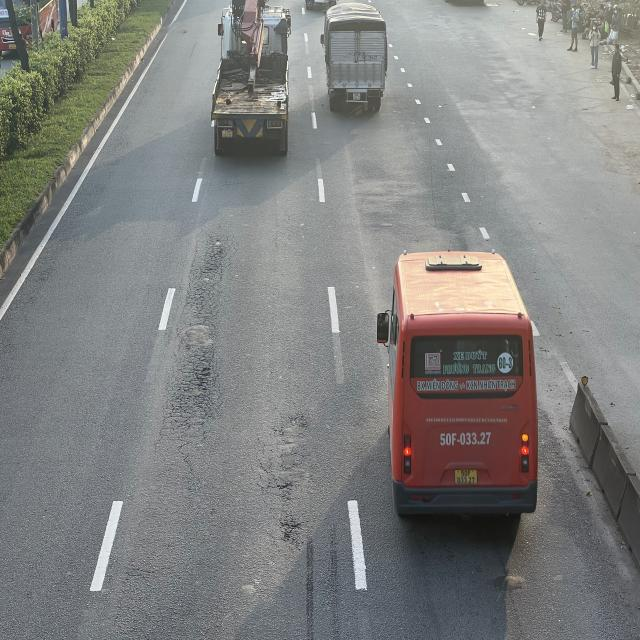truck: (214, 3, 294, 158), (321, 1, 387, 109)
van: (376, 248, 537, 517)
